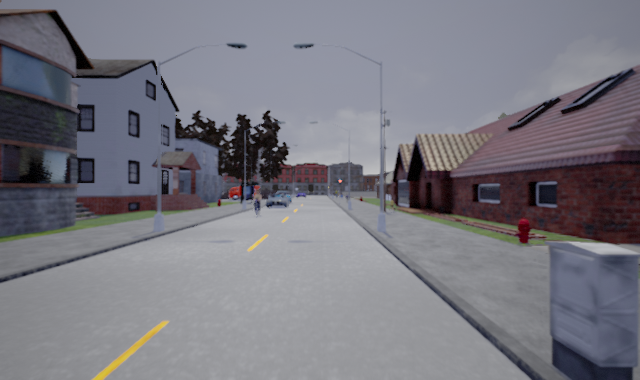bike: (251, 189, 265, 218)
vehicle: (264, 193, 290, 209)
